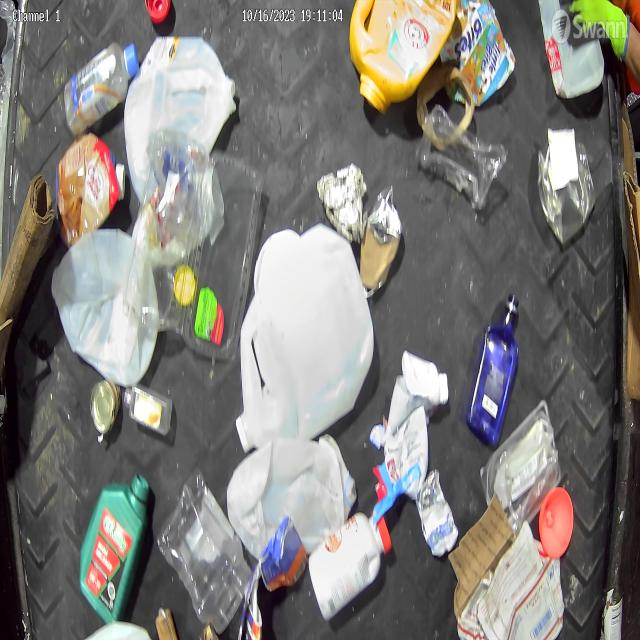can: (359, 183, 404, 301), (415, 466, 459, 560), (90, 378, 120, 437), (600, 581, 626, 640)
milk_jug: (234, 222, 375, 454), (123, 29, 239, 202), (50, 223, 160, 391), (226, 432, 358, 566), (537, 0, 606, 99)
non_white_jug: (348, 0, 458, 117), (78, 469, 150, 628)
plastic_bottle: (62, 36, 140, 142), (122, 384, 174, 436)
